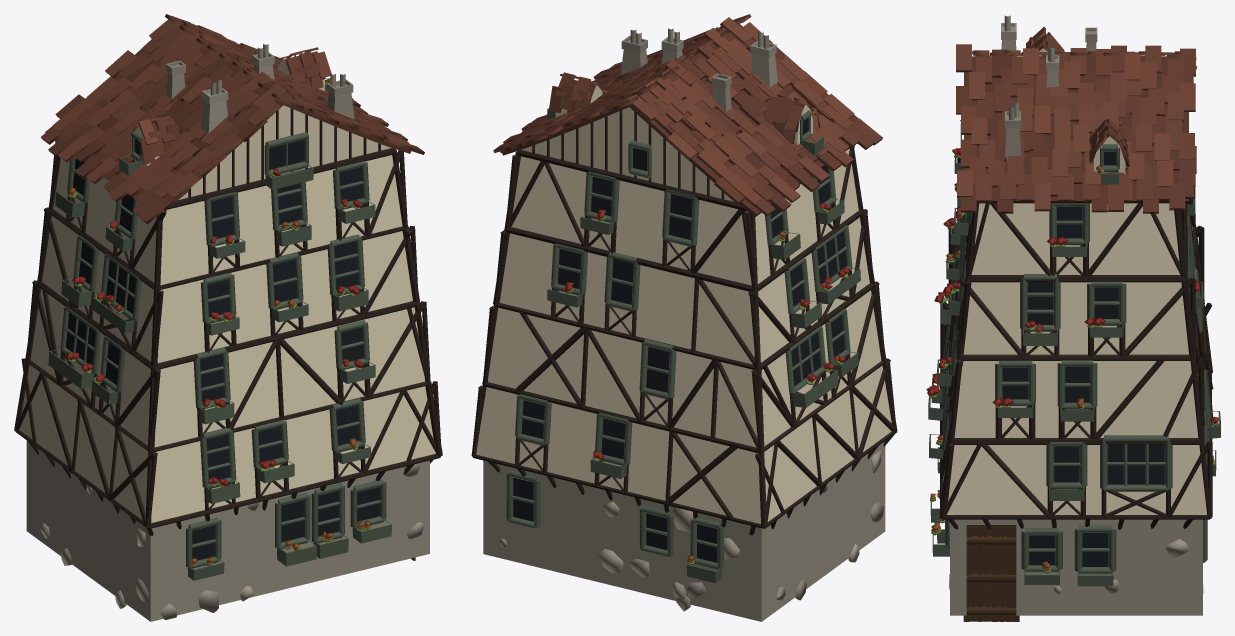
Rendered from house_35.glb.
3 views of the same model, side by side, from view 1: azimuth 30°, elevation 25°; view 2: azimuth 150°, elevation 25°; view 3: azimuth 270°, elevation 25° (orthographic). The views are drawn at different scales.
Parts seen in each view (by area): view 1: house_35; view 2: house_35; view 3: house_35.
Part boxes in pixels (bbox=[...]): house_35: bbox=[14, 14, 442, 621]; house_35: bbox=[471, 14, 897, 621]; house_35: bbox=[926, 15, 1220, 621].
Size of the model in its own units: 7.3 by 11.67 by 5.99.
